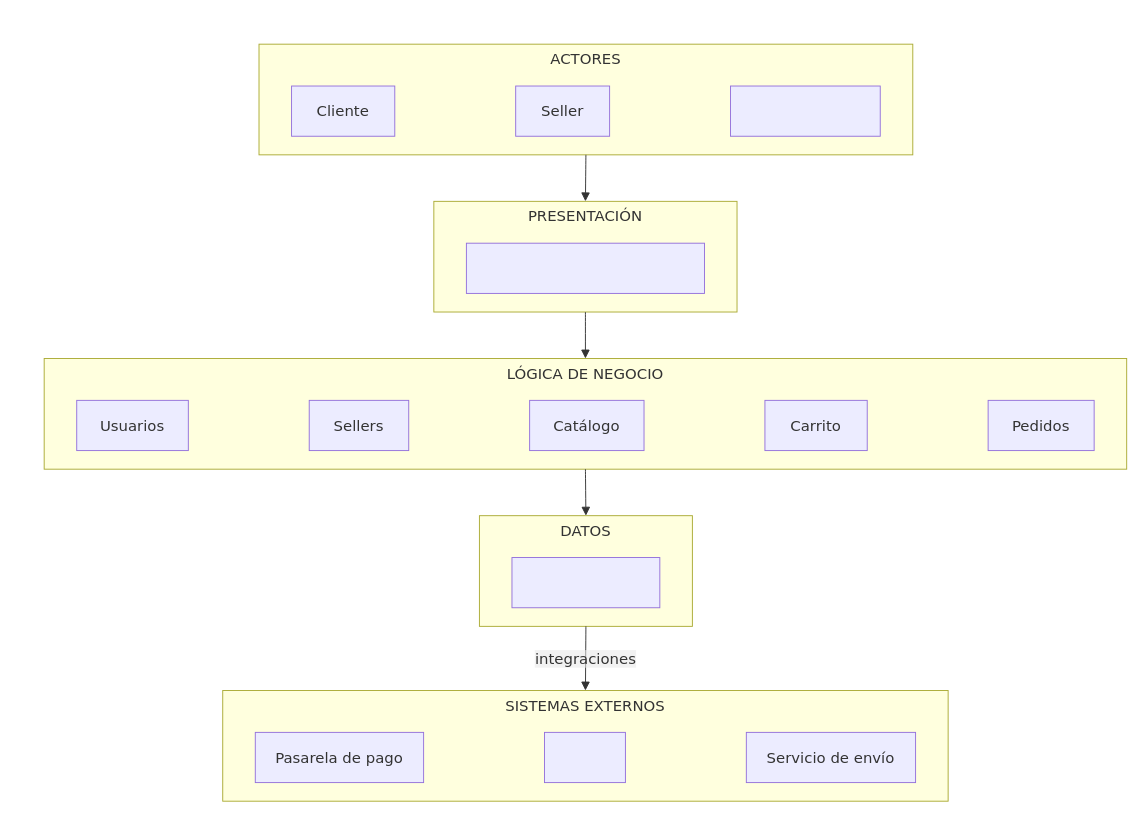
Image size: 1143x817. Some labels were removed from this diagram. Here are the shapes that lost their labels. From the top down, the centre of each, then its label:
point 805,110: Administrador
point 584,267: Aplicación Web → API REST
point 585,582: Base de datos
point 584,757: ERP
